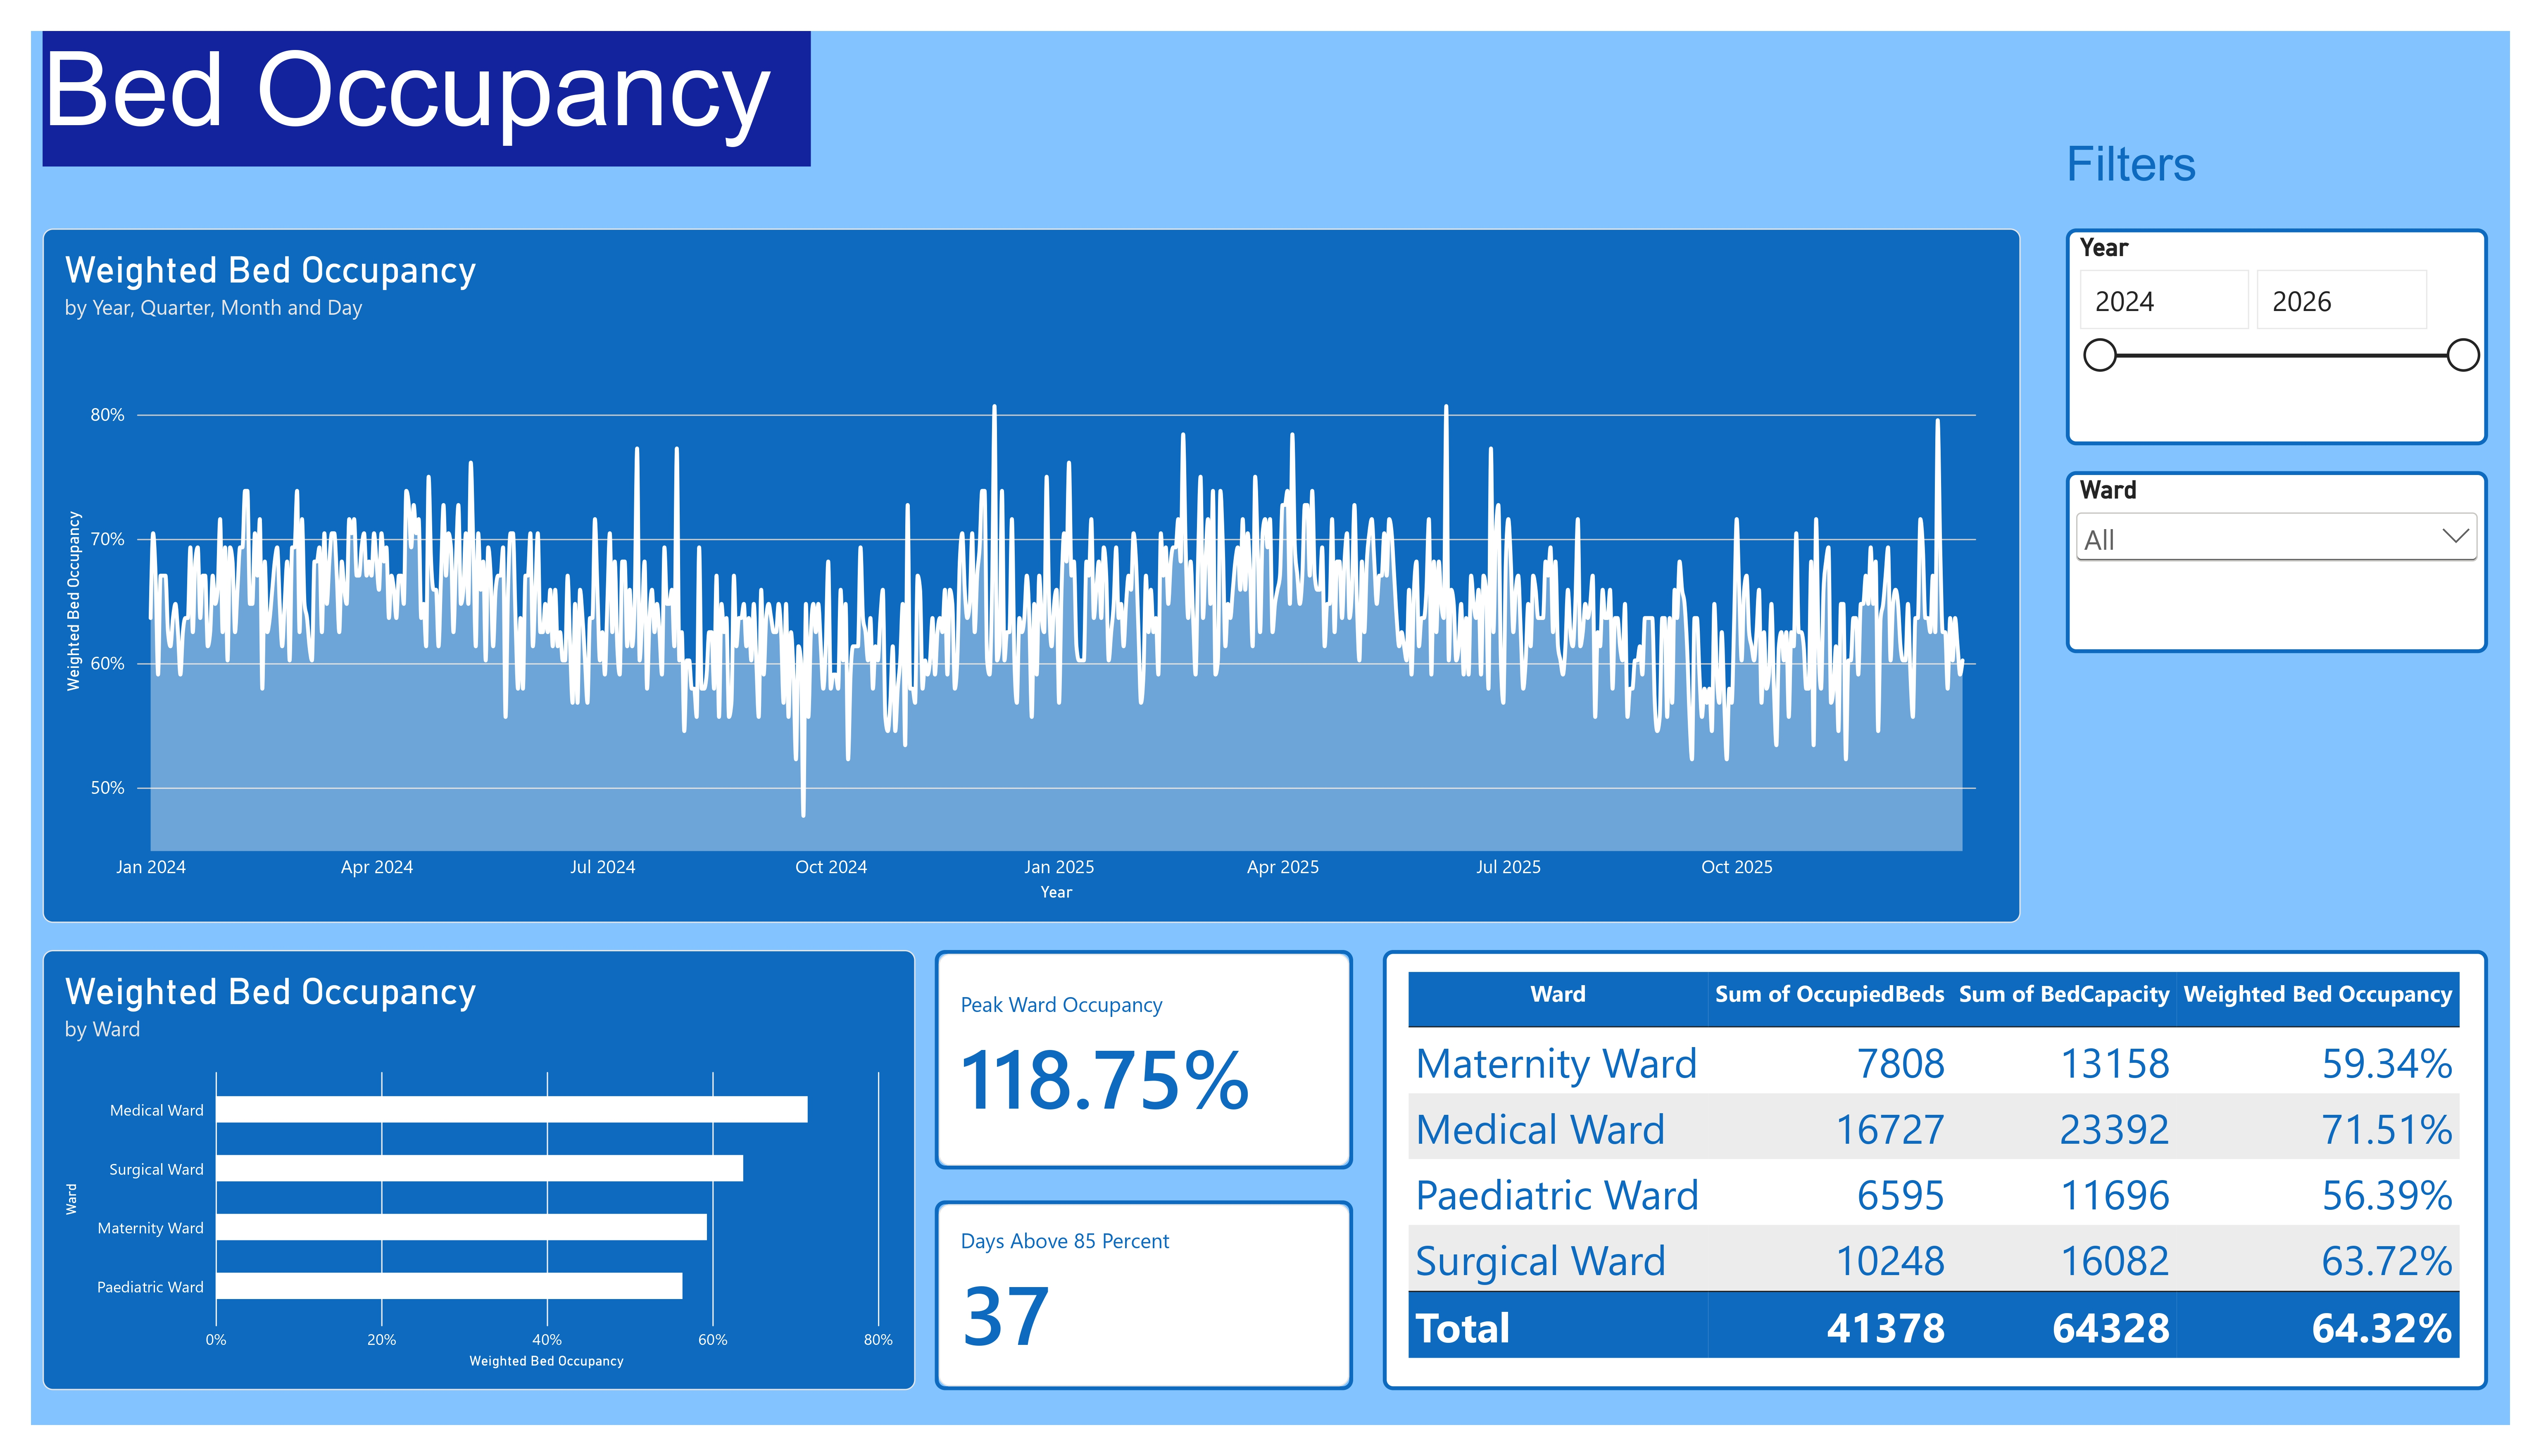

Layout of this report page (visuals, bound fields, positions):
{"tool":"powerbi","page":{"name":"Bed Occupancy","canvas":[1920,1080],"ordinal":2},"visuals":[{"type":"lineChart","fields":{"Category":["Calendar.Date.Variation.Date Hierarchy.Year","Calendar.Date.Variation.Date Hierarchy.Quarter","Calendar.Date.Variation.Date Hierarchy.Month","Calendar.Date.Variation.Date Hierarchy.Day"],"Y":["Visits.Weighted Bed Occupancy"]},"box":[8.8,152.9,1532.4,538.2],"z":0},{"type":"barChart","fields":{"Category":["BedCensus.Ward"],"Y":["Visits.Weighted Bed Occupancy"]},"box":[8.8,711.8,676.5,341.2],"z":1000},{"type":"cardVisual","fields":{"Data":["Visits.Peak Ward Occupancy"]},"box":[700,711.8,323.5,170.6],"z":2000},{"type":"cardVisual","fields":{"Data":["Visits.Days Above 85 Percent"]},"box":[700,905.9,323.5,147.1],"z":3000},{"type":"tableEx","fields":{"Values":["BedCensus.Ward","Sum(BedCensus.OccupiedBeds)","Sum(BedCensus.BedCapacity)","Visits.Weighted Bed Occupancy"]},"box":[1047.1,711.8,855.9,341.2],"z":4000},{"type":"slicer","fields":{"Values":["Calendar.Year"]},"box":[1576.5,152.9,326.5,167.6],"z":5000},{"type":"slicer","fields":{"Values":["BedCensus.Ward"]},"box":[1576.5,341.2,326.5,141.2],"z":6000},{"type":"textbox","box":[1576.5,82.4,144.1,47.1],"z":7000},{"type":"textbox","box":[8.5,0,595.3,104.9],"z":8000}]}

Visuals, with their boxes on the page's 1920x1080 design canvas (x1, y1, x2, y2). These are canvas units, not pixel positions in the 2541x1456 screenshot, which may show the page scaled, cropped or inside an application window:
lineChart - Calendar.Date.Variation.Date Hierarchy.Year x Calendar.Date.Variation.Date Hierarchy.Quarter: box=[9, 153, 1541, 691]
barChart - BedCensus.Ward x Visits.Weighted Bed Occupancy: box=[9, 712, 685, 1053]
cardVisual - Visits.Peak Ward Occupancy: box=[700, 712, 1024, 882]
cardVisual - Visits.Days Above 85 Percent: box=[700, 906, 1024, 1053]
tableEx - BedCensus.Ward x Sum(BedCensus.OccupiedBeds): box=[1047, 712, 1903, 1053]
slicer - Calendar.Year: box=[1576, 153, 1903, 320]
slicer - BedCensus.Ward: box=[1576, 341, 1903, 482]
textbox: box=[1576, 82, 1721, 130]
textbox: box=[8, 0, 604, 105]
